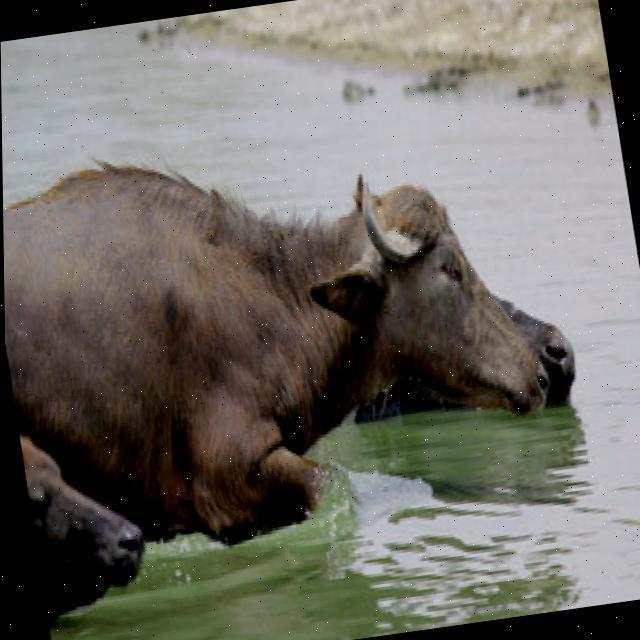Buffalo: (1, 89, 603, 622)
